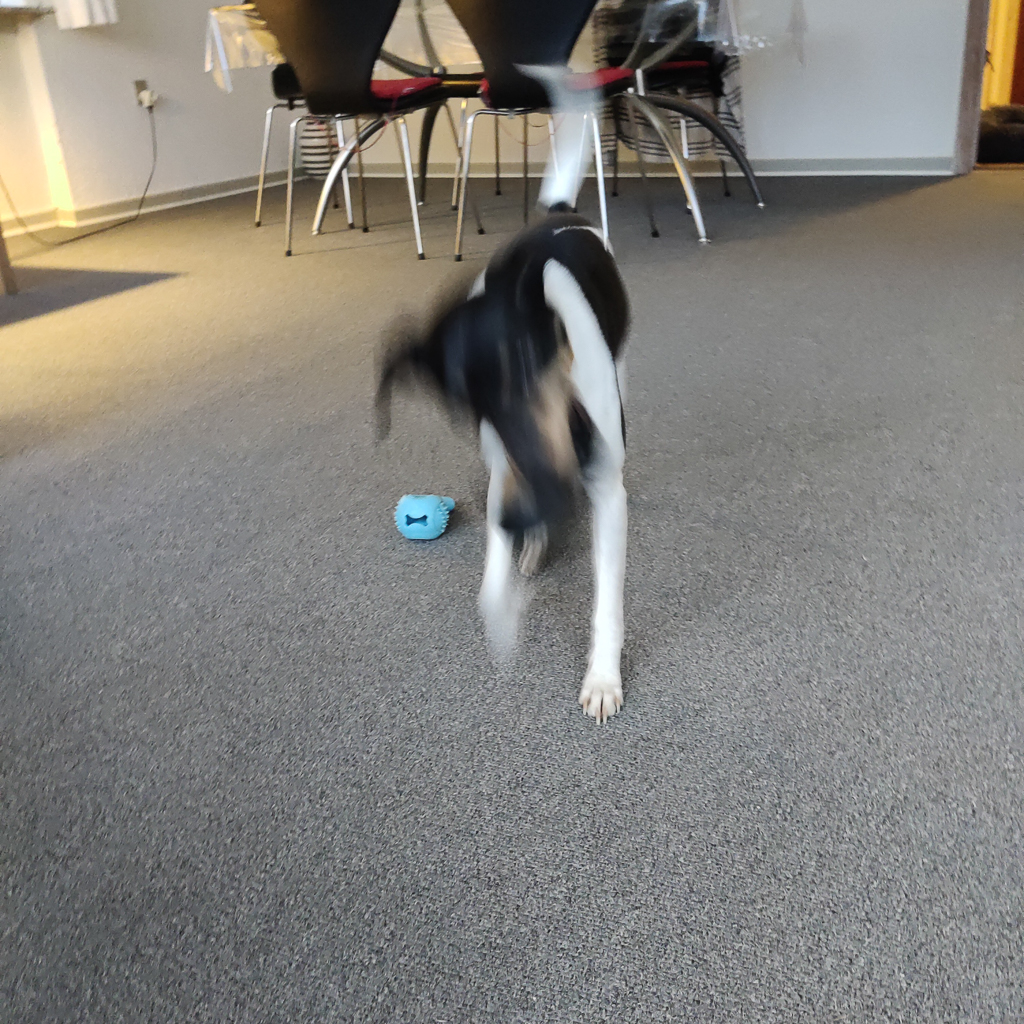Dog: (330, 30, 756, 749)
